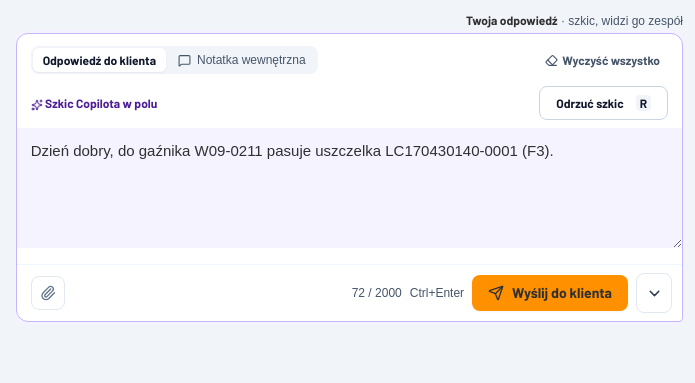
Test case: Szkic Copilota w edytorze › po wyczyszczeniu szkicu Copilota jego karta stoi zwinięta, nie rozwinięta pod pustym polem
Click the button "Wyczyść wszystko" at (603, 60), box [537, 44, 668, 76]
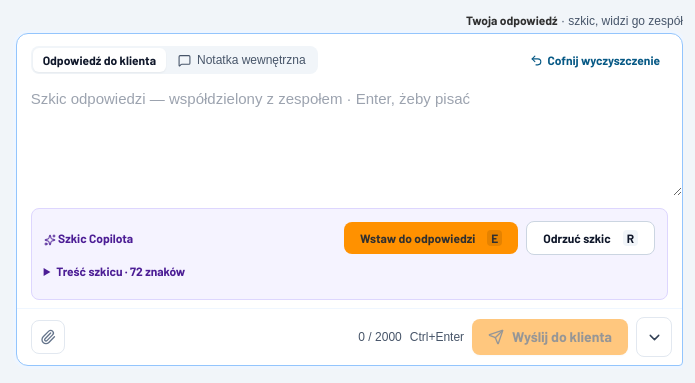
expect the button "Wstaw do odpowiedzi E" is shown: met, box [344, 222, 518, 254]
